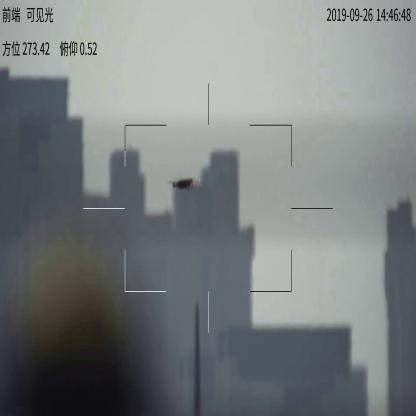uav: (167, 176, 194, 192)
